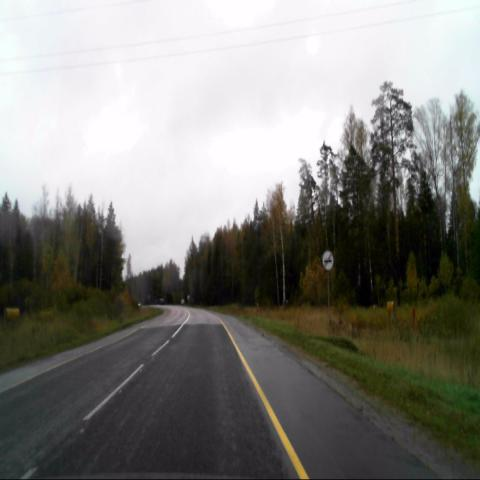3_21: (322, 248, 334, 271)
